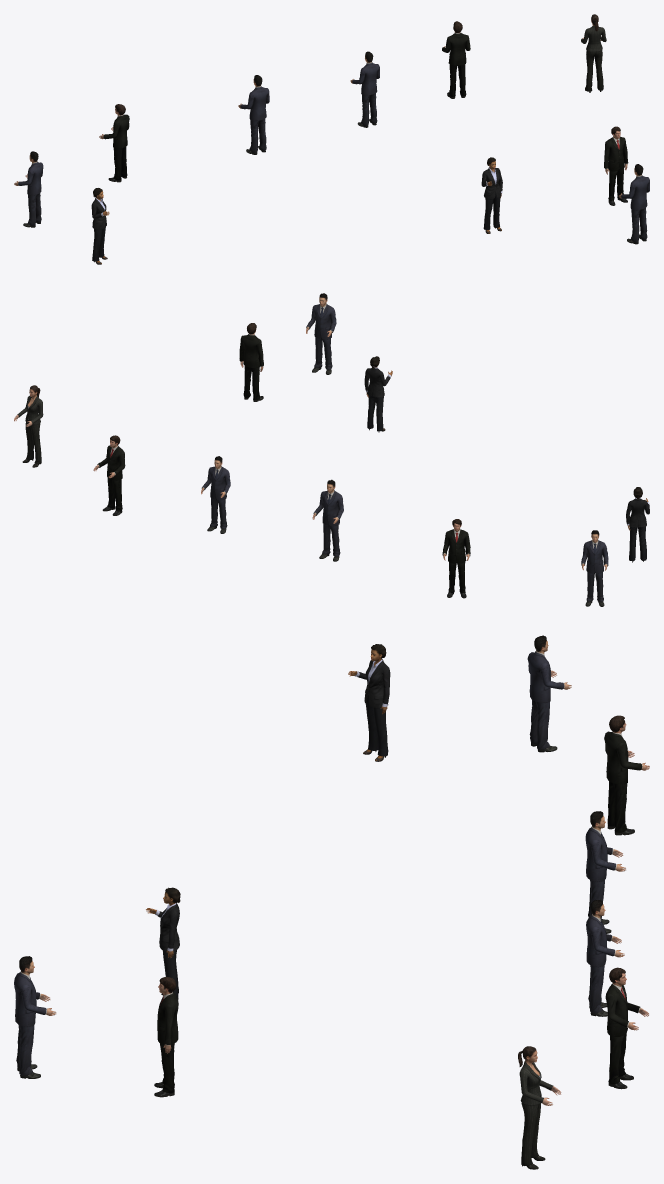
File: grand-technical-shape-v2-visitors.glb
3 views of the same model, one above another, from view 1: azimuth 30°, elevation 25°; view 2: azimuth 150°, elevation 25°; view 3: azimuth 270°, elevation 25° (orthographic). The views are drawn at different scales.
Parts seen in each view (by area): view 1: grand-technical-shape-v2-visitors | visitors | Rocketbox | B (×4); view 2: grand-technical-shape-v2-visitors | visitors | Rocketbox | B (×4); view 3: grand-technical-shape-v2-visitors | visitors | Rocketbox | B (×4).
Boxes of the visible parts, bbox=[...] form: grand-technical-shape-v2-visitors | visitors | Rocketbox | B (×4): bbox=[14, 14, 649, 264]; grand-technical-shape-v2-visitors | visitors | Rocketbox | B (×4): bbox=[14, 293, 649, 606]; grand-technical-shape-v2-visitors | visitors | Rocketbox | B (×4): bbox=[14, 635, 649, 1169].
Bounding box in the file's own units: 14.75 × 1.84 × 9.08.
Materials: 12 (12 with a texture image).
